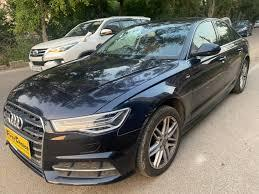Normal Automobiles: (4, 19, 248, 184), (29, 16, 149, 70), (233, 20, 253, 37), (221, 17, 231, 25), (254, 20, 258, 27)
